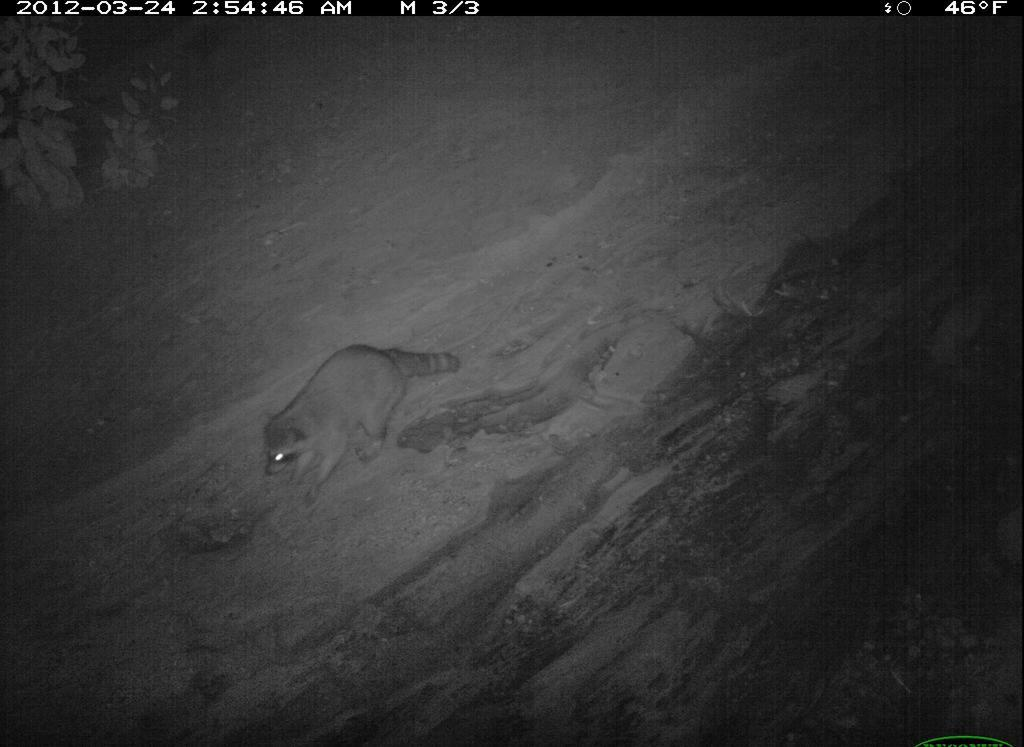raccoon: (513, 673, 939, 747)
